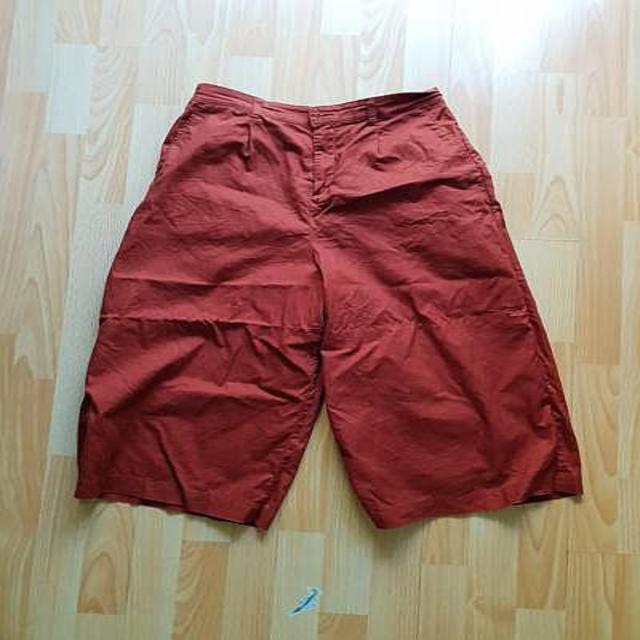SHORT: (60, 81, 608, 538)
